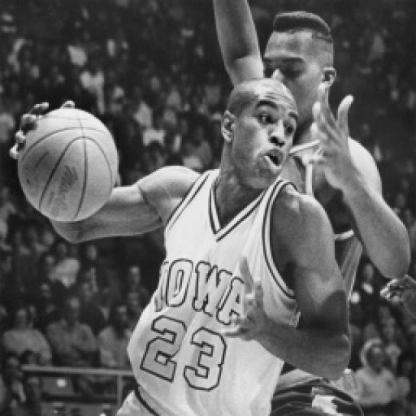basketball: (11, 102, 126, 226)
